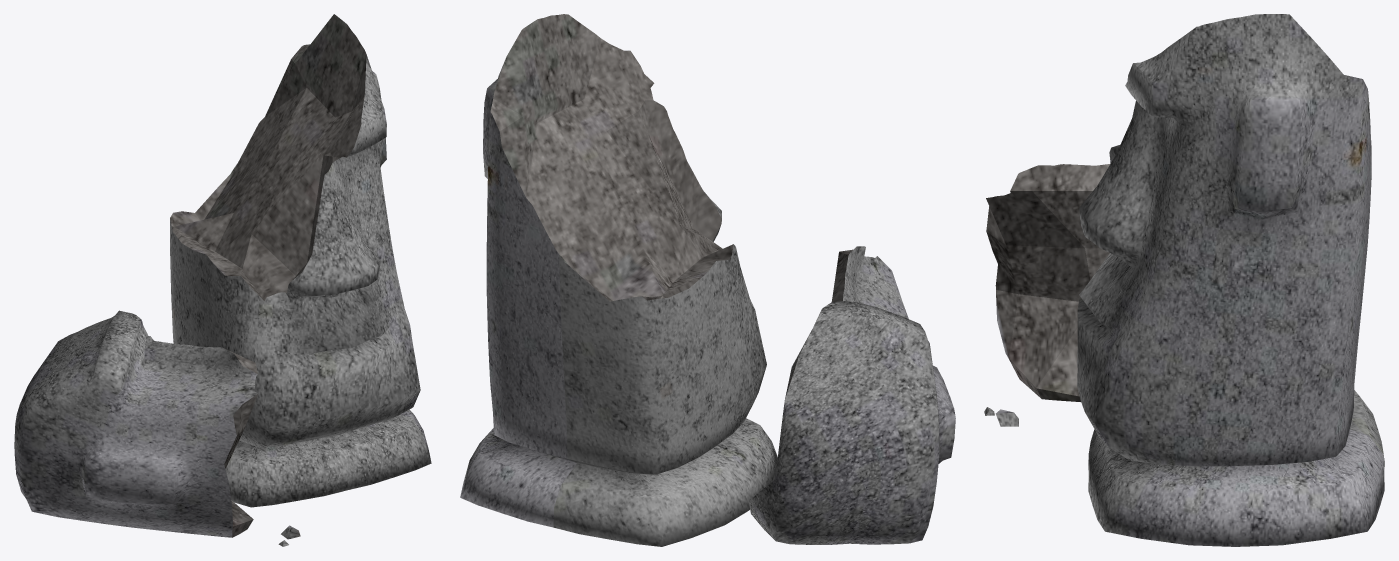
The model's file is Moai cassé.fbx.
The picture shows the model from 3 angles, left to right: view 1: azimuth 30°, elevation 25°; view 2: azimuth 150°, elevation 25°; view 3: azimuth 270°, elevation 25°; orthographic projection. The views are drawn at different scales.
Parts seen in each view (by area): view 1: Cube.001; view 2: Cube.001; view 3: Cube.001.
Boxes of the visible parts, x1,y1,x2,y2 form: Cube.001: (14, 14, 431, 546); Cube.001: (460, 14, 955, 546); Cube.001: (984, 14, 1384, 546).
Size of the model in its own units: 418 by 410 by 296.
